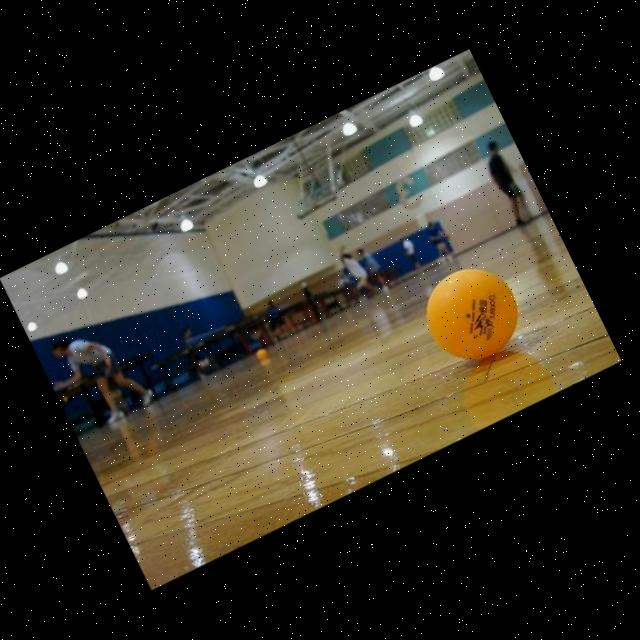ping-pong-ball: (408, 250, 535, 379), (254, 346, 268, 360)
